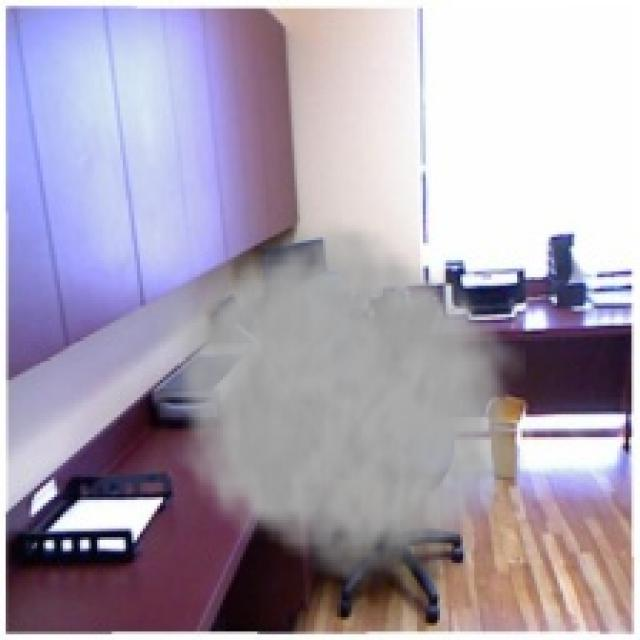smoke: (154, 211, 526, 600)
